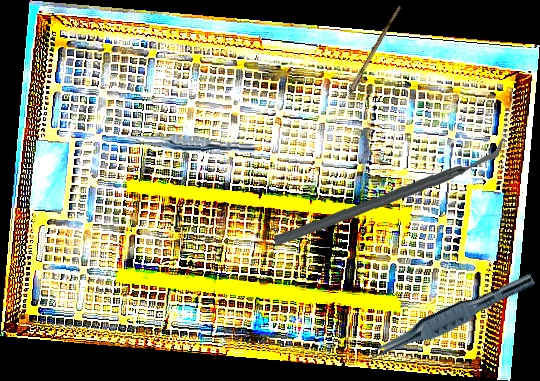Chopper: (275, 130, 504, 255)
Surgical Spoon: (331, 4, 402, 124)
Tissue Forceps: (362, 263, 537, 372), (127, 131, 256, 156)
